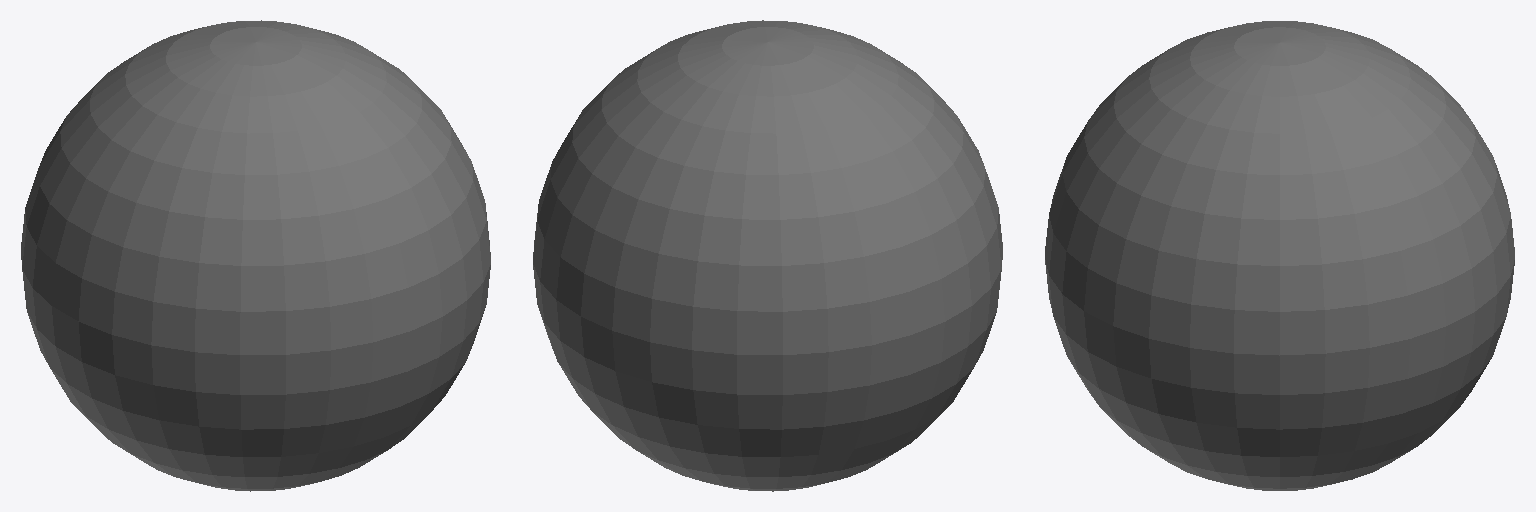
URDF robot description (threedof_manipulator):
<?xml version="1.0" ?>

<robot name="threedof_manipulator">

  <link name="root_link">
    <visual>
      <geometry>
        <mesh filename="/home/robot/studentische-arbeiten/res/Tensegrity/meshes/wrist_upper_with_imu.stl" scale="0.001 0.001 0.001"/>
      </geometry>
      <material name="grey">
        <color rgba="0.5 0.5 0.5 0.9"/>
      </material>
    </visual>
    <collision>
      <geometry>
        <mesh filename="/home/robot/studentische-arbeiten/res/Tensegrity/meshes/wrist_upper_with_imu.stl" scale="0.001 0.001 0.001"/>
      </geometry>
    </collision>
    <inertial>
      <mass value="1.9"/> <!-- TODO: 1.9 kg, estimated from CAD model with arm adapt to only wrist with imu + enclosure -->
      <origin rpy="0 0 0" xyz="0 0 0"/>
      <inertia ixx="0.07286" ixy="0.0" ixz="0.0" iyy="0.01099" iyz="0.0" izz="0.0104"/>  <!-- TODO: Adapt to only wrist with imu + enclosure -->
    </inertial>
  </link>

  <fixed_frame name="imu1_frame">
    <parent link="root_link"/>
    <origin rpy="0 0 3.14" xyz="0 0.03 -0.033"/>
  </fixed_frame>

   <joint name="wrist_y_joint" type="revolute">
    <parent link="root_link"/>
    <child link="wrist_y_link"/>
    <axis xyz="1 0 0"/>
    <origin rpy="0 0 3.14" xyz="0 0 -0.126"/>
    <limit effort="10.0" lower="-0.8" upper="0.8" velocity="0.5"/>
    <dynamics damping="0.01" friction="0.04"/>
    <!-- damping="0.0036" friction="0.002"-->
  </joint> 

  <link name="wrist_y_link">
    <visual>
      <geometry>
        <sphere radius="0.005"/>
      </geometry>
      <material name="grey">
        <color rgba="0.5 0.5 0.5 1"/>
      </material>
    </visual>
    <collision>
      <geometry>
        <sphere radius="0.005"/>
      </geometry>
    </collision>
    <inertial>
      <mass value="0.0001"/>
      <inertia ixx="1e-6" ixy="0" ixz="0"
               iyy="1e-6" iyz="0"
               izz="1e-6"/>
    </inertial>
  </link>

  <joint name="wrist_x_joint" type="revolute">
    <parent link="wrist_y_link"/>
    <child link="wrist_x_link"/>
    <axis xyz="0 1 0"/>
    <origin rpy="0 0 0" xyz="0 0 0"/>
    <limit effort="10.0" lower="-0.8" upper="0.8" velocity="0.5"/>
    <dynamics damping="0.01" friction="0.04"/>
    <!-- damping="0.0036" friction="0.002"-->
  </joint>  

  <link name="wrist_x_link">
    <visual>
      <geometry>
        <sphere radius="0.005"/>
      </geometry>
      <material name="grey">
        <color rgba="0.5 0.5 0.5 1"/>
      </material>
    </visual>
    <collision>
      <geometry>
        <sphere radius="0.005"/>
      </geometry>
    </collision>
    <inertial>
      <mass value="0.0001"/>
      <inertia ixx="1e-6" ixy="0" ixz="0"
               iyy="1e-6" iyz="0"
               izz="1e-6"/>
    </inertial>
  </link>

  <joint name="wrist_mesh_fixed_joint" type="fixed">
    <origin rpy="3.14 0 2.616" xyz="0 0 -0.0033"/>
    <parent link="wrist_x_link"/>
    <child link="end_effector_link"/>
  </joint>  

  <link name="end_effector_link">
    <visual>
      <geometry>
        <mesh filename="/home/robot/studentische-arbeiten/res/Tensegrity/meshes/Endeffektor.stl" scale="0.001 0.001 0.001"/>
      </geometry>
      <material name="grey">
        <color rgba="0.5 0.5 0.5 1"/>
      </material>
    </visual>
    <collision>
      <geometry>
        <mesh filename="/home/robot/studentische-arbeiten/res/Tensegrity/meshes/Endeffektor.stl" scale="0.001 0.001 0.001"/>
      </geometry>
    </collision>
    <inertial>
      <mass value="0.4"/>
      <origin rpy="0 0 0" xyz="0 0 0"/>
      <inertia ixx="0.000175" ixy="0.0" ixz="0.0" 
               iyy="0.000175" iyz="0.0" 
               izz="0.0000614"/>
    </inertial>
  </link>

  <fixed_frame name="imu2_frame">
    <parent link="end_effector_link"/>
    <origin rpy="3.14 0 2.6172" xyz="0 0 0.09"/>
  </fixed_frame>

  <joint name="ee_tool_fixed_joint" type="fixed">
    <origin rpy="0 0 0" xyz="0 0 0.11768"/>
    <parent link="end_effector_link"/>
    <child link="tool_link"/>
  </joint>  

  <link name="tool_link">
    <inertial>
      <mass value="0.0001"/>
      <inertia ixx="1e-6" ixy="0" ixz="0"
               iyy="1e-6" iyz="0"
               izz="1e-6"/>
    </inertial>
    <!-- no <visual>, no <collision> -->
  </link>

</robot>

--- What the picture shows (computed from the rendered views, not written in the file) ---
The picture shows the robot from 3 angles, left to right: view 1: azimuth 30°, elevation 25°; view 2: azimuth 150°, elevation 25°; view 3: azimuth 270°, elevation 25°; orthographic projection.
Model threedof_manipulator with 5 links and 4 joints (2 revolute, 2 fixed), rooted at root_link, posed every joint at zero.
Links seen in each view (by area): view 1: wrist_y_link; view 2: wrist_y_link; view 3: wrist_y_link.
Boxes of the visible links, x1=… form: wrist_y_link: x1=21, y1=20, x2=490, y2=491; wrist_y_link: x1=533, y1=20, x2=1002, y2=491; wrist_y_link: x1=1045, y1=21, x2=1514, y2=490.
Size in the robot's own frame: 0.01 by 0.01 by 0.01 metres.
Geometry: only primitive shapes (box / cylinder / sphere) drawn; not drawn: 2 mesh visuals (reference in a form the renderer does not follow).
